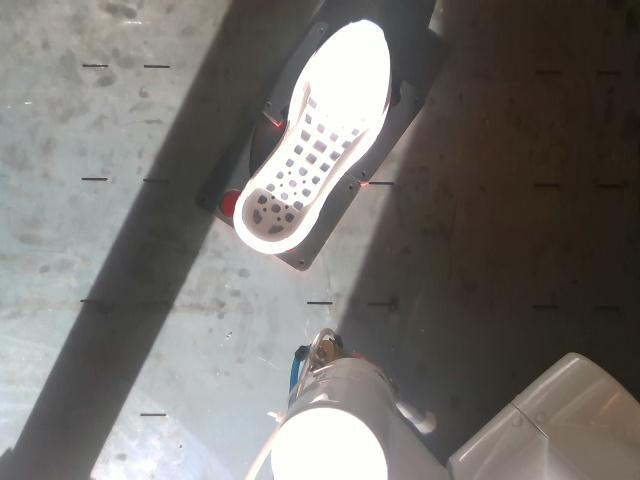shoes: (242, 19, 390, 242)
